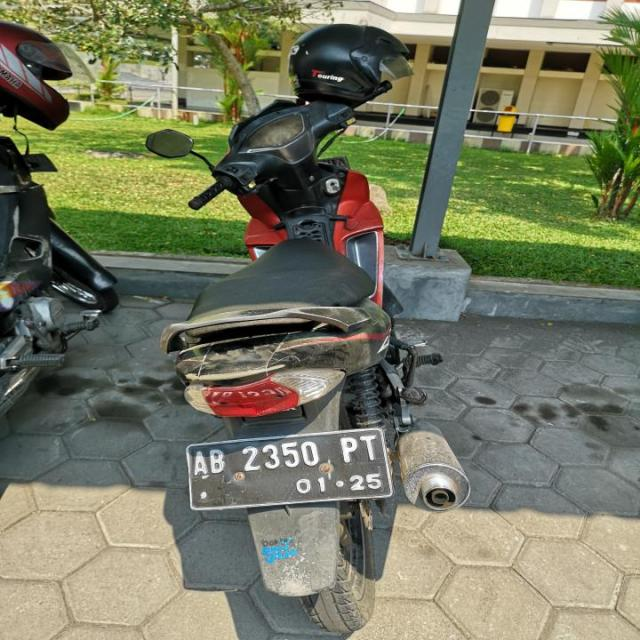License Plate: (185, 428, 394, 512)
